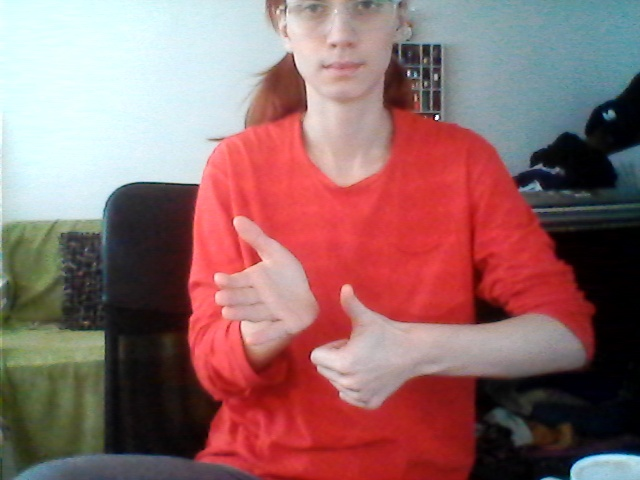pivo: (204, 206, 408, 422)
